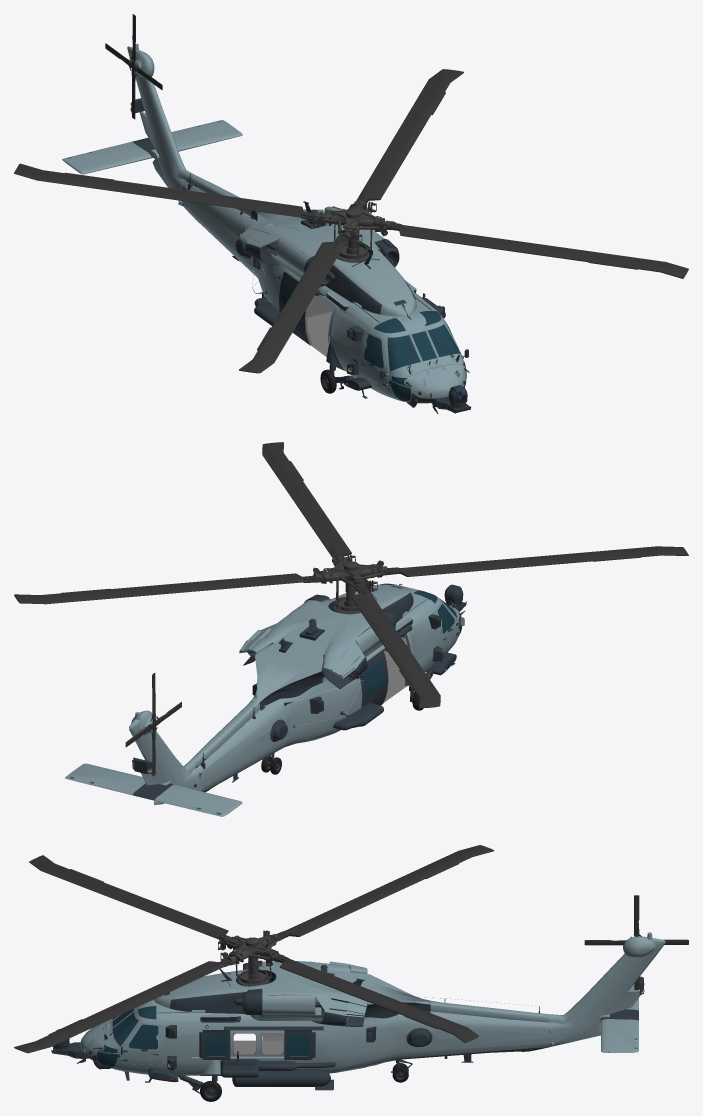
Rendered from SeaHawk SH-60.fbx.
The picture shows the model from 3 angles, top to bottom: view 1: azimuth 30°, elevation 25°; view 2: azimuth 150°, elevation 25°; view 3: azimuth 270°, elevation 25°; orthographic projection. The views are drawn at different scales.
Visible parts, largest first — view 1: object.001, main_rot, object.002, object.006, rotary, object.009, blade; view 2: object.001, main_rot, object.002, rotary, object.006, blade, object.009; view 3: object.001, main_rot, object.002, object.006, rotary, object.009, blade, object, object.005.
Part boxes in pixels (x1=…): object.001: x1=62, y1=43, x2=466, y2=401; main_rot: x1=14, y1=69, x2=688, y2=373; object.002: x1=130, y1=98, x2=470, y2=413; object.006: x1=282, y1=282, x2=466, y2=401; rotary: x1=313, y1=200, x2=395, y2=275; object.009: x1=284, y1=266, x2=457, y2=397; blade: x1=105, y1=14, x2=162, y2=119; object.001: x1=65, y1=583, x2=461, y2=816; main_rot: x1=14, y1=442, x2=688, y2=708; object.002: x1=132, y1=581, x2=466, y2=800; rotary: x1=313, y1=554, x2=390, y2=633; object.006: x1=363, y1=583, x2=461, y2=696; blade: x1=125, y1=673, x2=181, y2=776; object.009: x1=313, y1=602, x2=457, y2=702; object.001: x1=80, y1=932, x2=665, y2=1075; main_rot: x1=14, y1=845, x2=494, y2=1053; object.002: x1=51, y1=960, x2=644, y2=1098; object.006: x1=96, y1=1006, x2=309, y2=1067; rotary: x1=218, y1=930, x2=284, y2=995; object.009: x1=102, y1=993, x2=314, y2=1065; blade: x1=584, y1=895, x2=688, y2=989; object: x1=82, y1=1047, x2=548, y2=1075; object.005: x1=200, y1=1063, x2=408, y2=1101.
Bounding box in the file's own units: 1238 × 514 × 1736.
